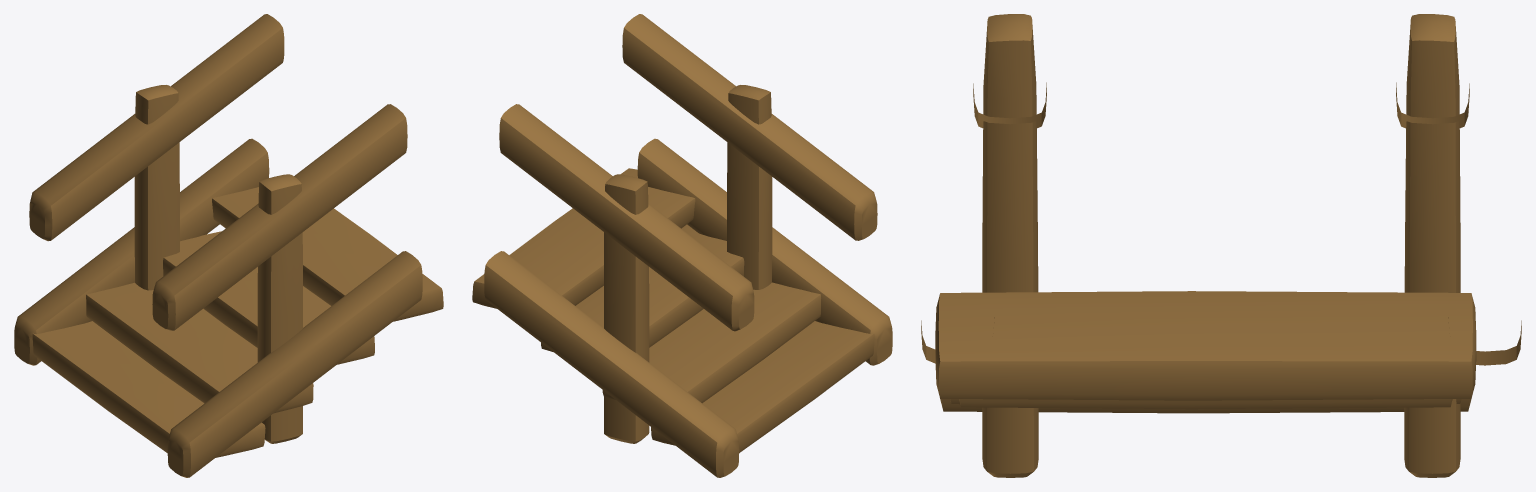
The model's file is quaternius-platformer-game-stairs-modular-start.glb.
3 renders of one model, left to right at view 1: azimuth 30°, elevation 25°; view 2: azimuth 150°, elevation 25°; view 3: azimuth 270°, elevation 25°, orthographic. The views are drawn at different scales.
Parts seen in each view (by area): view 1: Stairs_Modular_Start; view 2: Stairs_Modular_Start; view 3: Stairs_Modular_Start.
Part boxes in pixels (box(x1,y1,x2,y2)): Stairs_Modular_Start: box(14, 14, 443, 477); Stairs_Modular_Start: box(472, 14, 892, 477); Stairs_Modular_Start: box(921, 14, 1521, 477).
Bounding box in the file's own units: 2.24 × 2.43 × 2.56.
